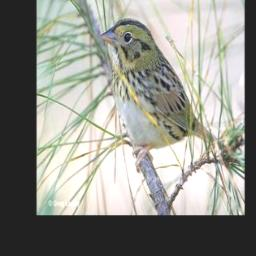Sparrow: (99, 16, 228, 172)
